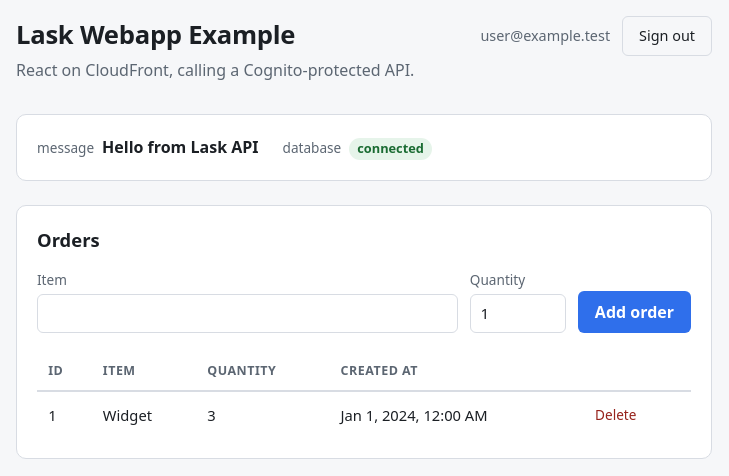
Test: App › deletes an order and refreshes the list
The width and height of the screenshot is (729, 476).
Check: the text "Widget" is shown, box [92,391,196,438]
Click the button with aria-label "delete order 1" at [616, 415], box [588,400,644,429]
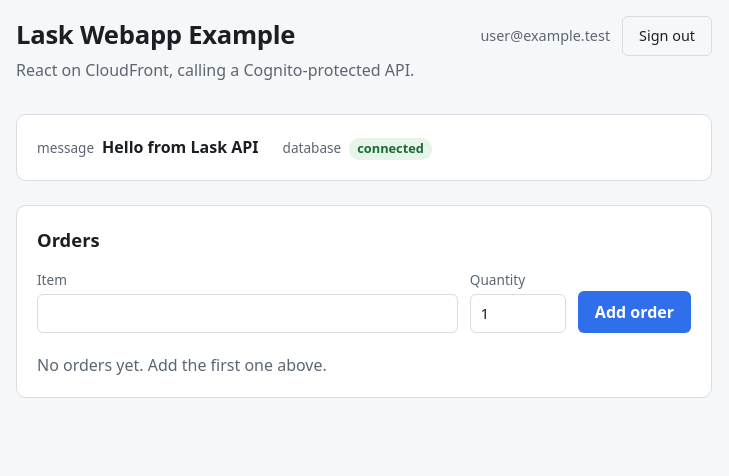
Check: the text "No orders yet. Add the first one above." is shown, box [37,354,327,376]
Check: the text "Widget" is gone
